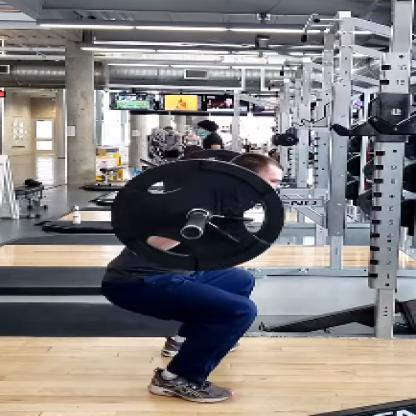Barbell: (103, 155, 291, 273)
